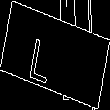L_N: (41, 26, 69, 84)
